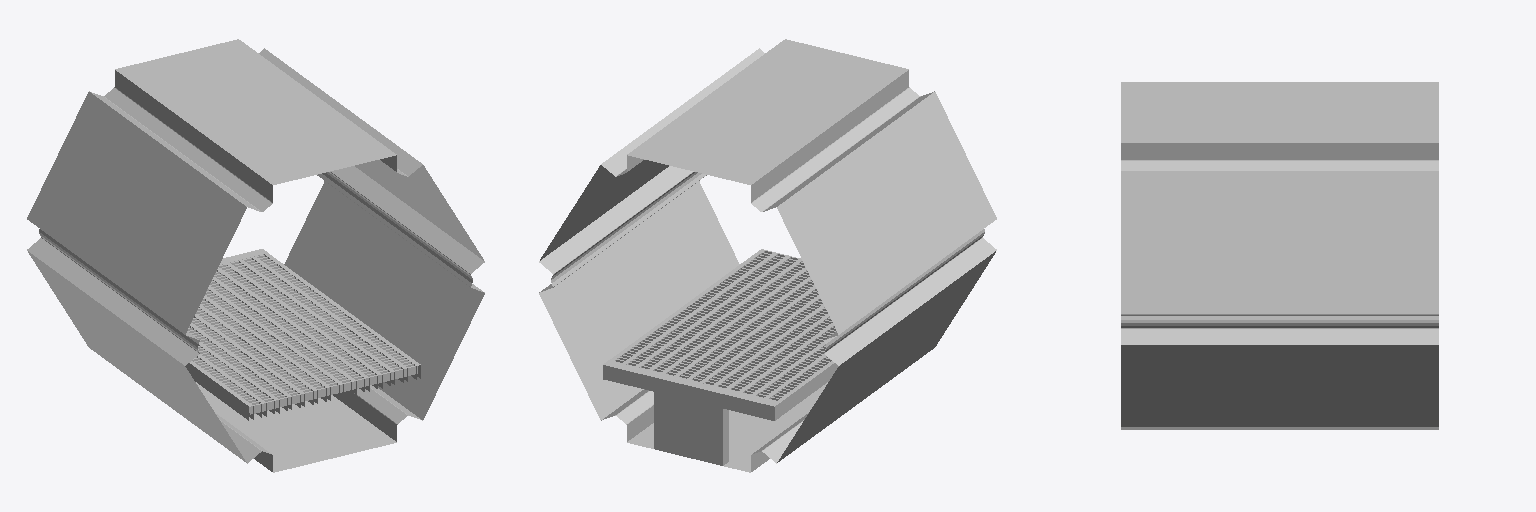
Rendered from Hallway.obj.
3 renders of one model, left to right at view 1: azimuth 30°, elevation 25°; view 2: azimuth 150°, elevation 25°; view 3: azimuth 270°, elevation 25°, orthographic.
Parts seen in each view (by area): view 1: Cube.001_Cube.052; view 2: Cube.001_Cube.052; view 3: Cube.001_Cube.052.
Part boxes in pixels (left/top/right/bottom): Cube.001_Cube.052: left=27, top=39, right=484, bottom=472; Cube.001_Cube.052: left=539, top=39, right=996, bottom=472; Cube.001_Cube.052: left=1121, top=82, right=1438, bottom=429.
Bounding box in the file's own units: 17.48 × 16 × 16.